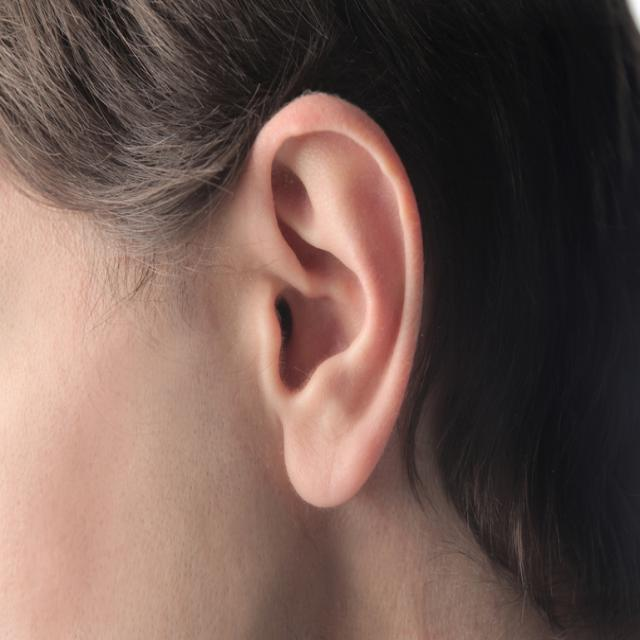earlobe: (282, 380, 378, 511)
wholeear: (234, 91, 424, 512)
